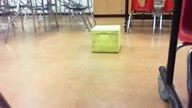cube: (91, 25, 120, 53)
